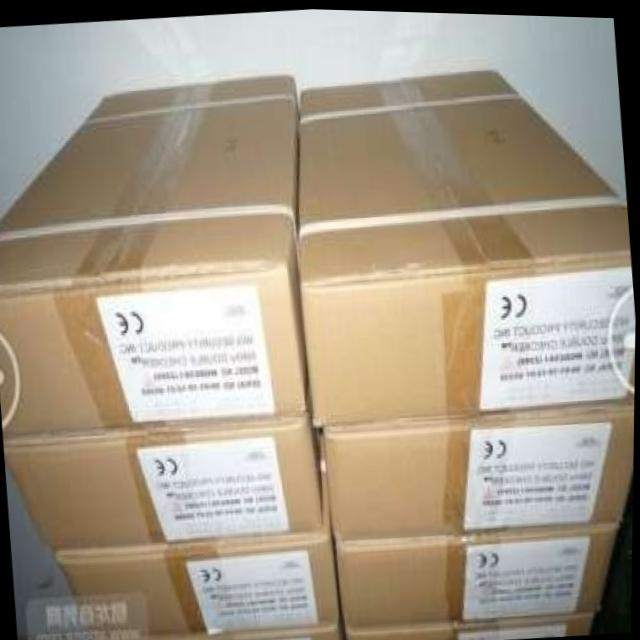box: (300, 68, 636, 423), (0, 77, 309, 436), (322, 403, 635, 539), (7, 421, 328, 551), (59, 535, 342, 640), (336, 523, 621, 623), (347, 612, 594, 640), (214, 633, 342, 640)
